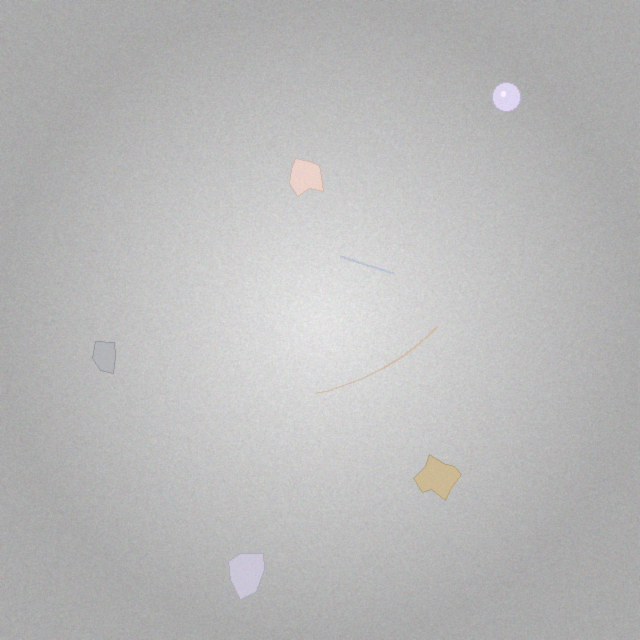fiber: (314, 325, 440, 396), (337, 253, 397, 277)
fragment: (414, 455, 461, 501), (228, 553, 265, 600), (290, 158, 324, 196), (92, 342, 116, 374)
pellet: (492, 83, 521, 111)
